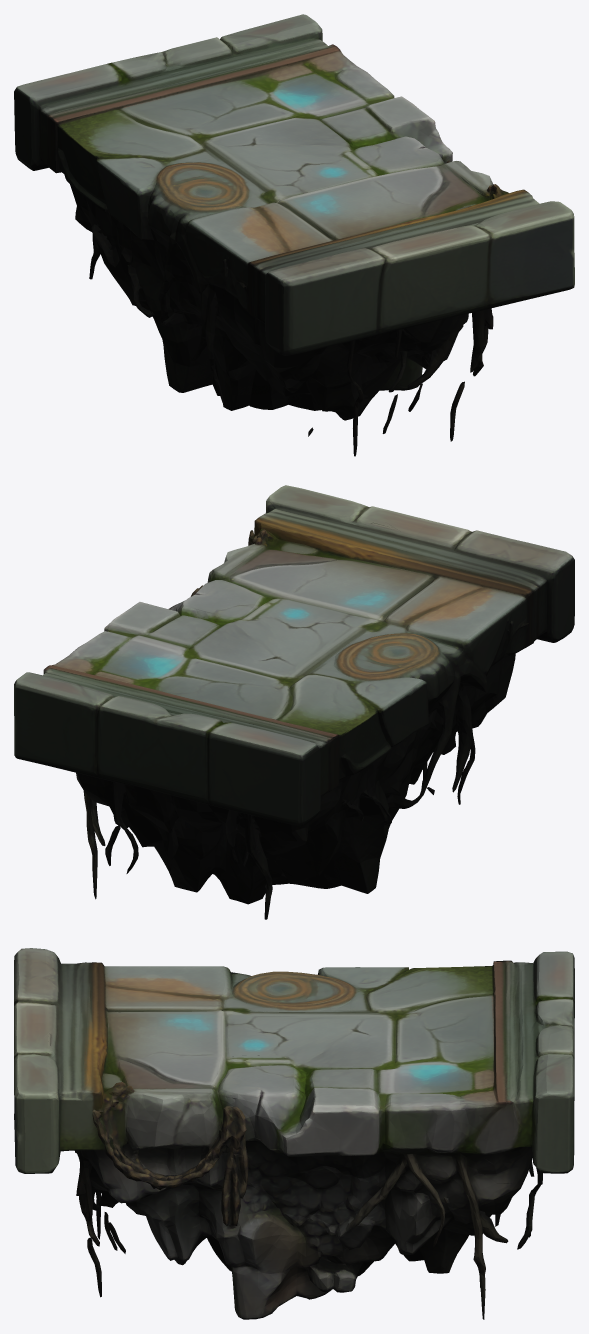
Rendered from floor_edge.glb.
The picture shows the model from 3 angles, top to bottom: view 1: azimuth 30°, elevation 25°; view 2: azimuth 150°, elevation 25°; view 3: azimuth 270°, elevation 25°; orthographic projection. The views are drawn at different scales.
Visible parts, largest first — view 1: world; view 2: world; view 3: world.
Part boxes in pixels (box(x1,y1,x2,y2)): world: box(14, 14, 574, 456); world: box(14, 485, 574, 919); world: box(14, 948, 574, 1319).
Size of the model in its own units: 0.6286 by 0.4872 by 0.9894.
1 material, 1 textured.
